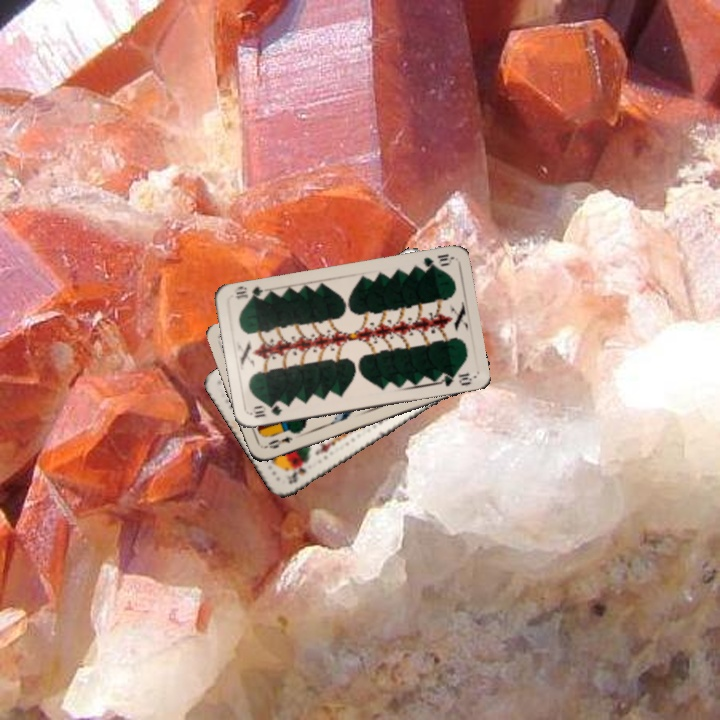EO: (260, 432, 295, 451)
G10: (414, 250, 454, 273), (248, 400, 285, 420)
SK: (283, 461, 309, 487)
